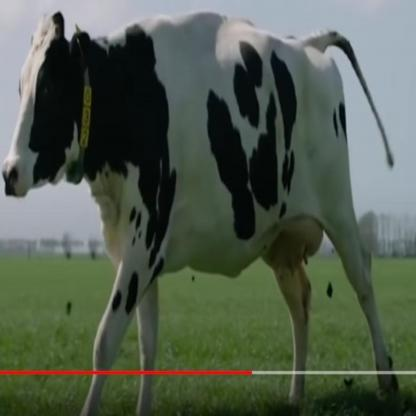cow: (0, 9, 401, 416)
